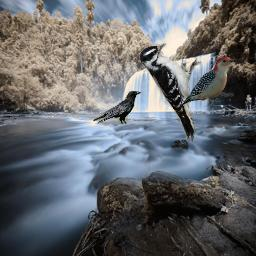Crow: (93, 91, 141, 125)
Woodpecker: (139, 43, 202, 142), (180, 57, 241, 106)
